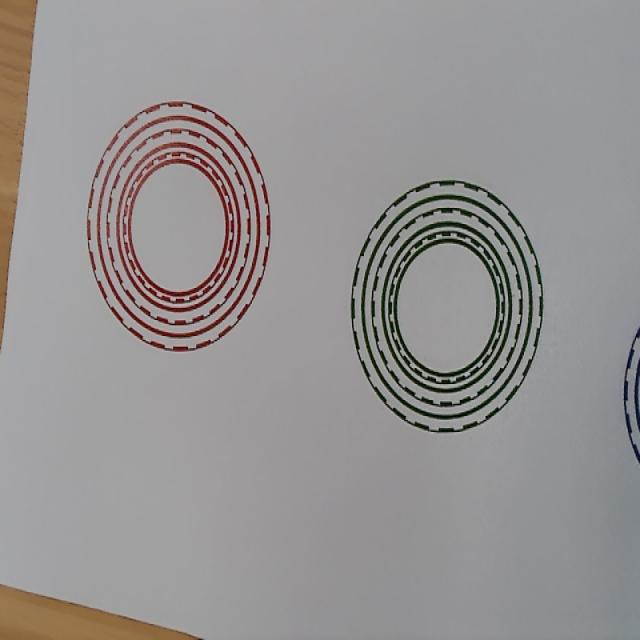g: (351, 180, 544, 434)
red-green-blue: (84, 101, 270, 354)
